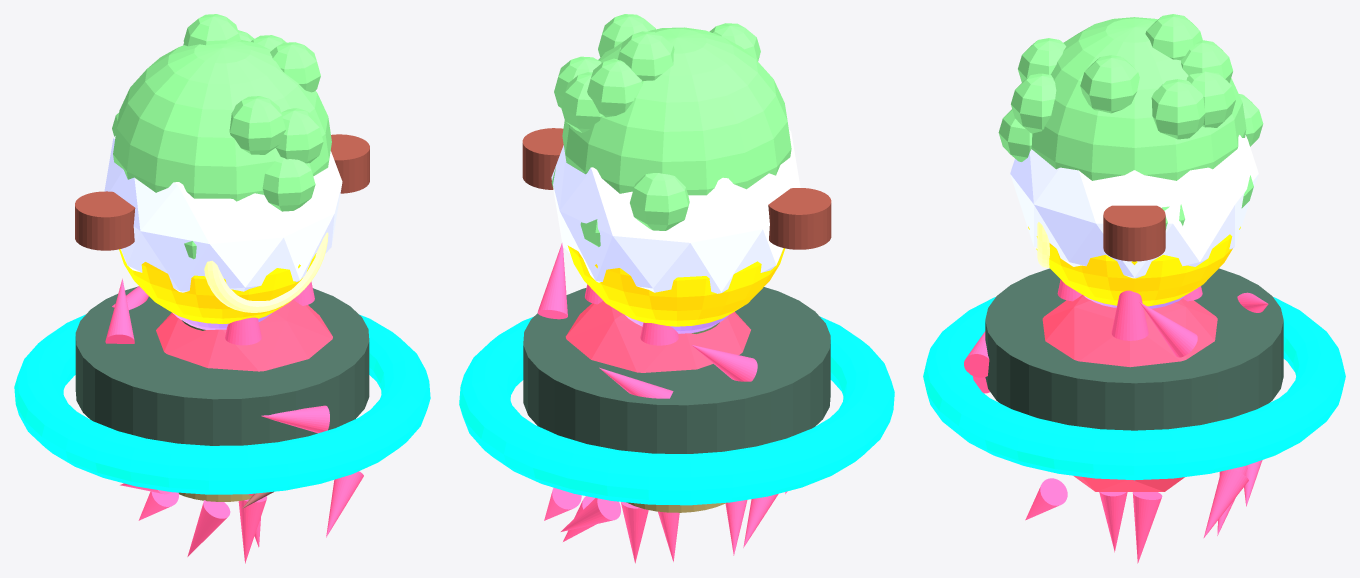
3 renders of one model, left to right at view 1: azimuth 30°, elevation 25°; view 2: azimuth 150°, elevation 25°; view 3: azimuth 270°, elevation 25°, orthographic. The views are drawn at different scales.
Visible parts, largest first — view 1: TowerVitaminC, TowerBroccoli, Portal, TowerWhiteCell, EnemyBossVirus, TowerExercise; view 2: TowerVitaminC, TowerBroccoli, Portal, TowerWhiteCell, EnemyBossVirus, TowerExercise, EnemyJunkFood; view 3: TowerVitaminC, TowerBroccoli, Portal, EnemyBossVirus, TowerWhiteCell, TowerExercise.
Boxes of the visible parts, x1,y1,x2,y2 form: TowerVitaminC: (75,232,369,445); TowerBroccoli: (112,14,331,330); Portal: (14,314,430,494); TowerWhiteCell: (104,136,342,292); EnemyBossVirus: (105,278,363,563); TowerExercise: (75,134,369,250); TowerVitaminC: (523,245,830,453); TowerBroccoli: (551,14,791,333); Portal: (459,316,894,505); TowerWhiteCell: (551,130,800,293); EnemyBossVirus: (537,243,787,563); TowerExercise: (522,128,831,249); EnemyJunkFood: (626,502,726,512); TowerVitaminC: (985,222,1283,430); TowerBroccoli: (998,14,1263,229); Portal: (923,297,1345,480); EnemyBossVirus: (964,279,1268,563); TowerWhiteCell: (1010,135,1258,278); TowerExercise: (1103,205,1165,261).
Size of the model in its own units: 3.4 by 4.74 by 3.4.
